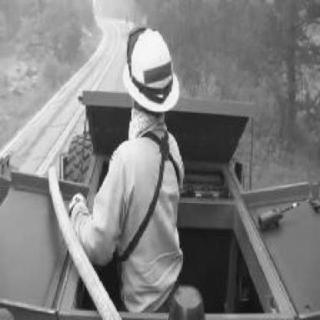other: (73, 24, 203, 308)
